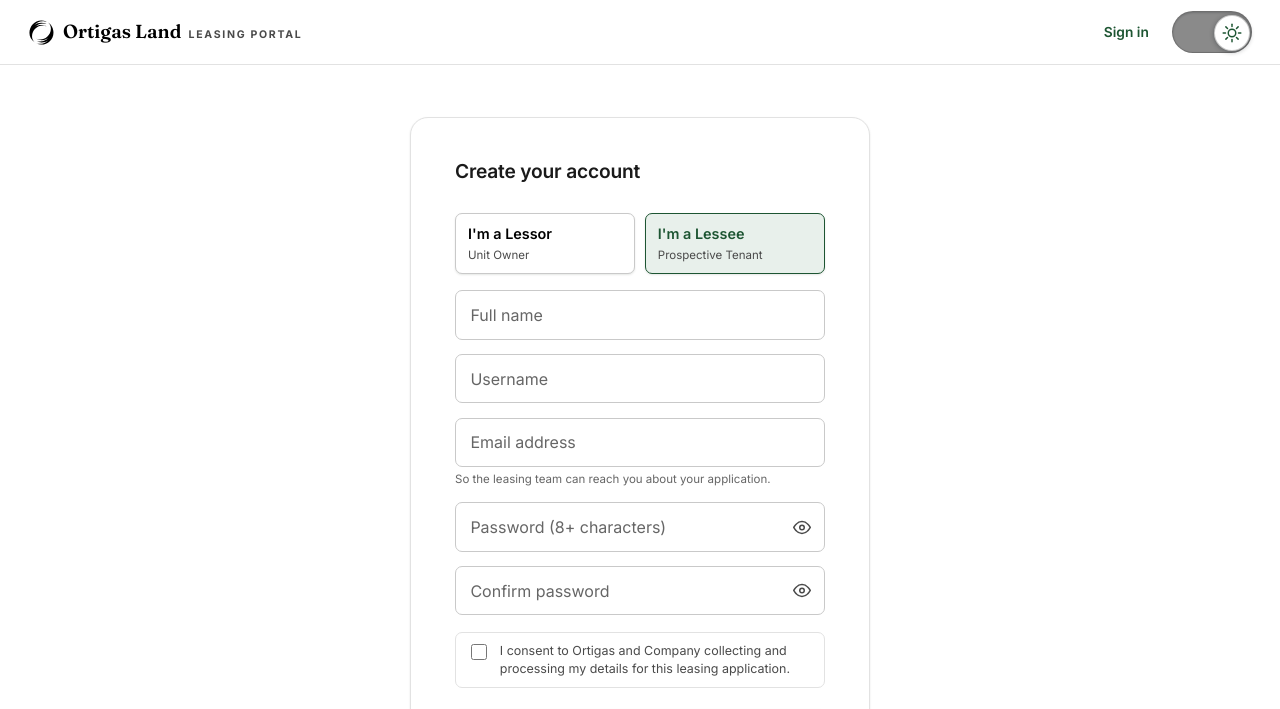
Scenario: SignupView › confirms the application is awaiting approval instead of redirecting
The width and height of the screenshot is (1280, 709).
In the field with id "name": (640, 315) [455, 290, 825, 340], type "Ana Reyes"
In the field with id "username": (640, 379) [455, 354, 825, 403], type "ana.reyes"
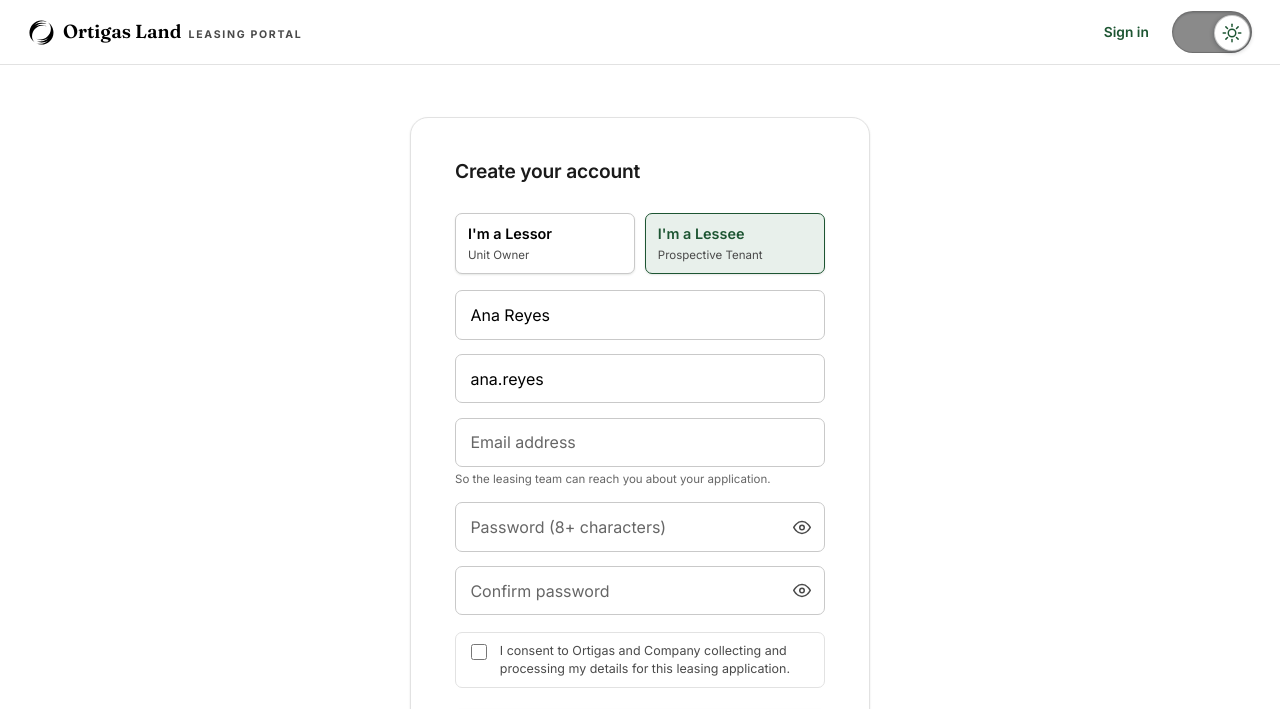
In the field with id "contactEmail": (640, 442) [455, 418, 825, 467], type "ana@example.com"
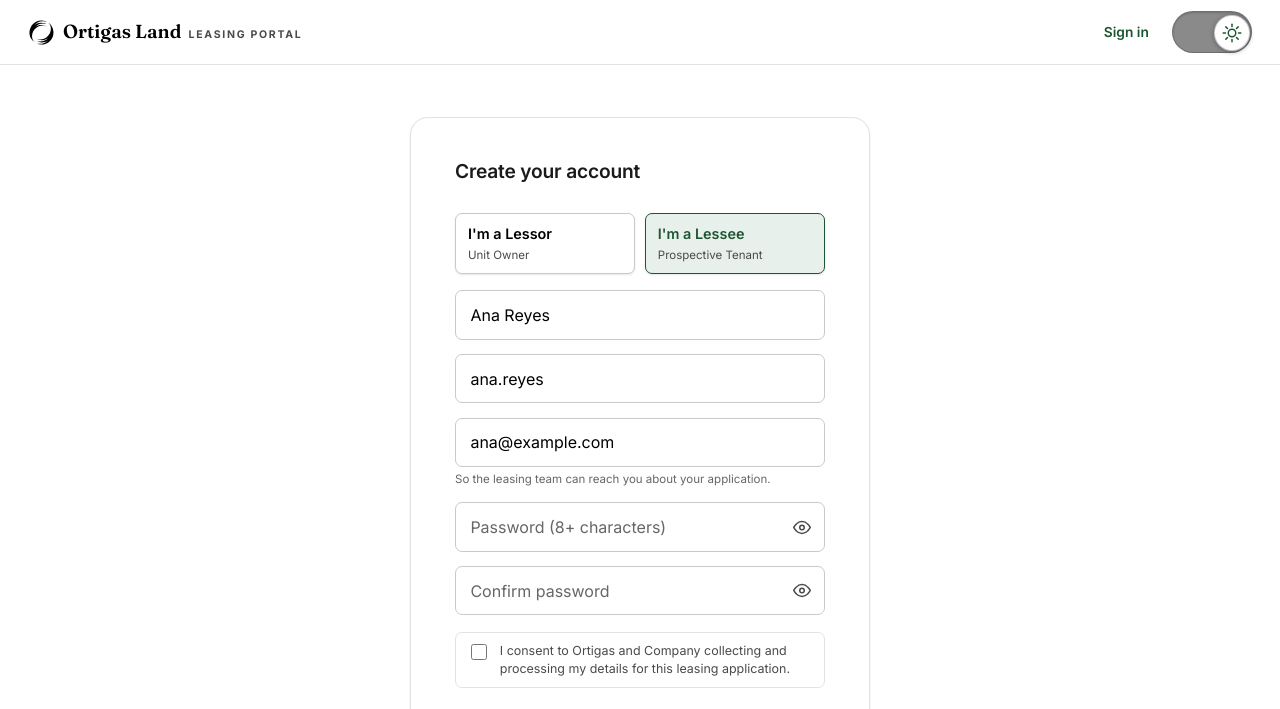
In the password field with placeholder "Password (8+ characters)": (640, 527) [455, 502, 825, 552], type "strong-pass-8"
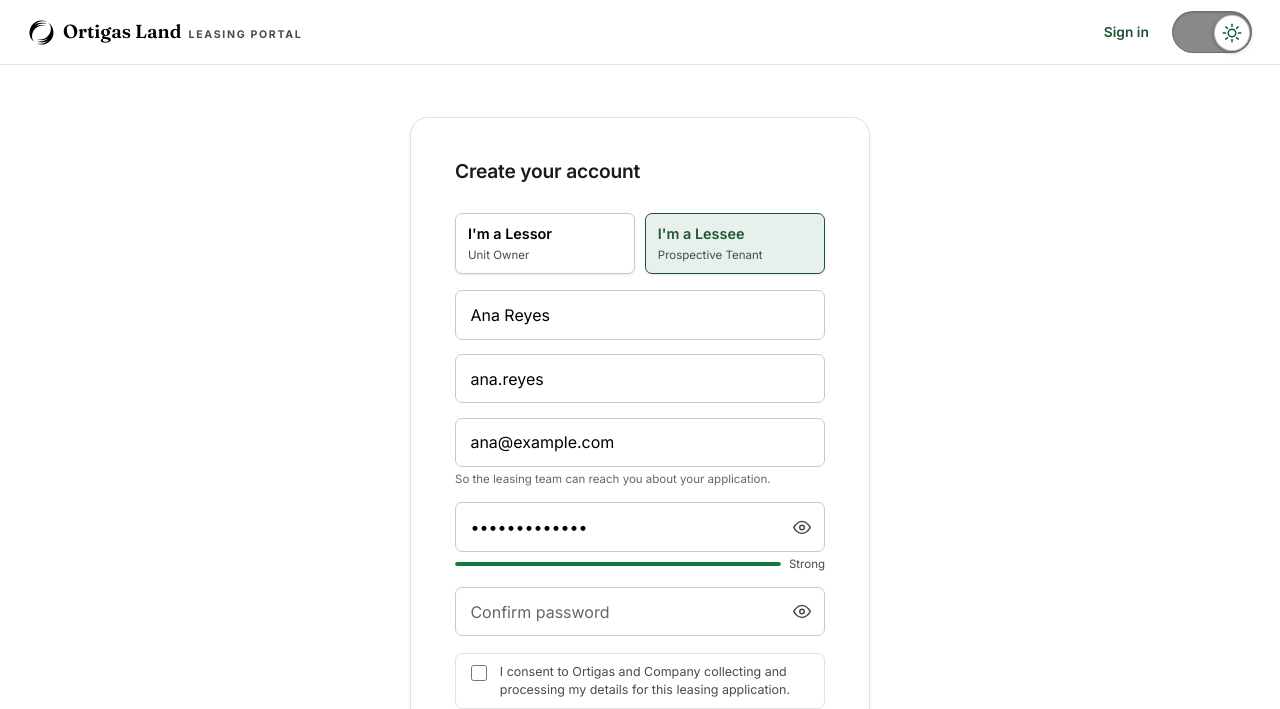
In the password field with id "confirm": (640, 612) [455, 587, 825, 636], type "strong-pass-8"
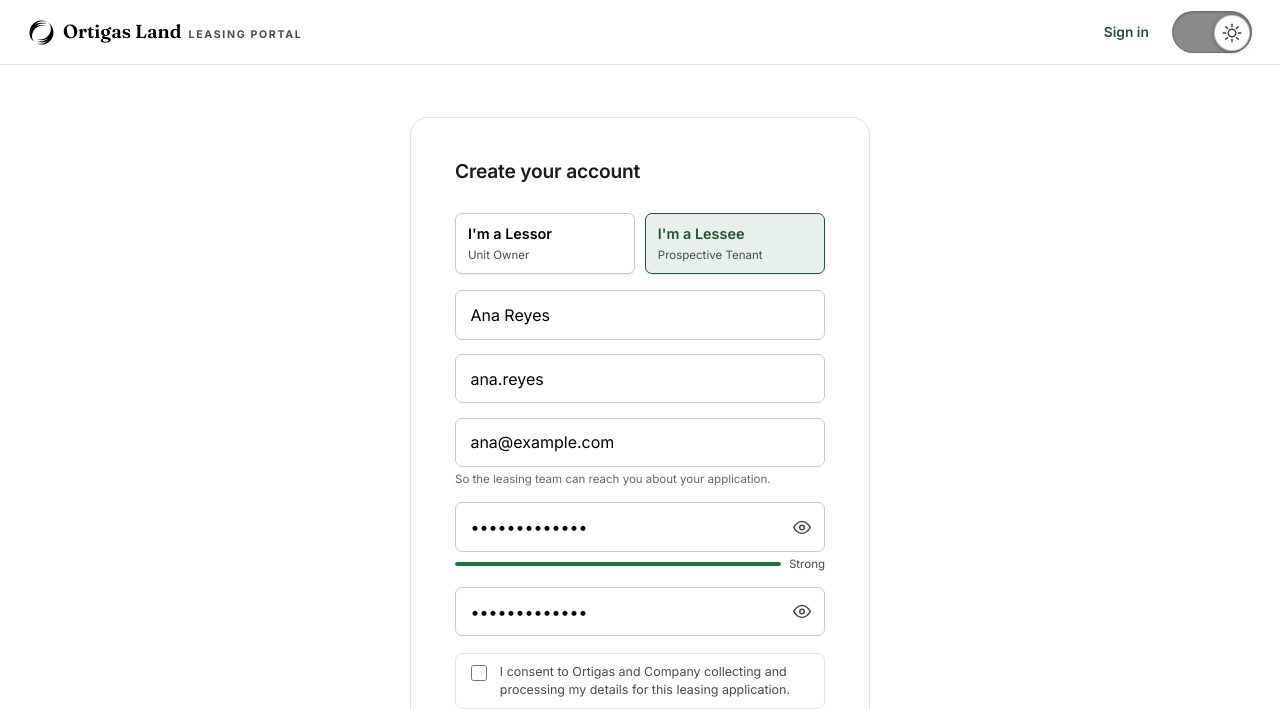
Click the checkbox with id "consent": (479, 673) [471, 665, 487, 681]
(page scrolled)
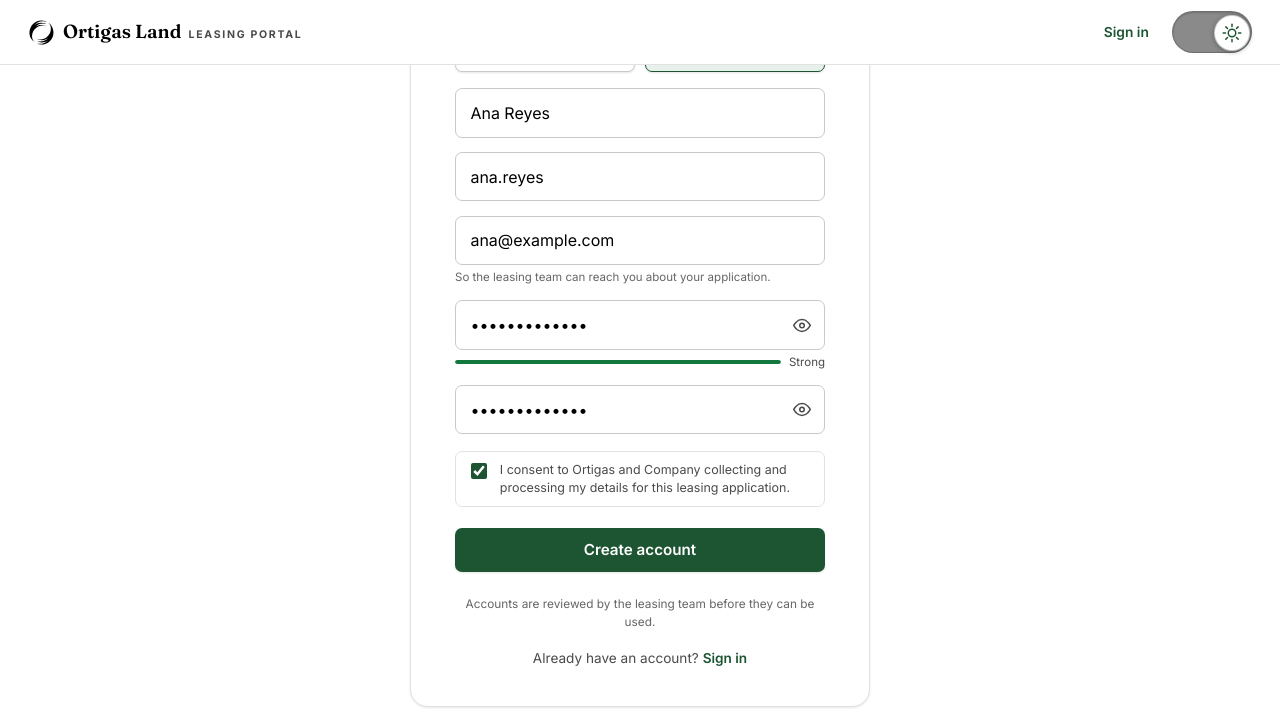
Submit the form, box [455, 528, 825, 629]
(page scrolled)
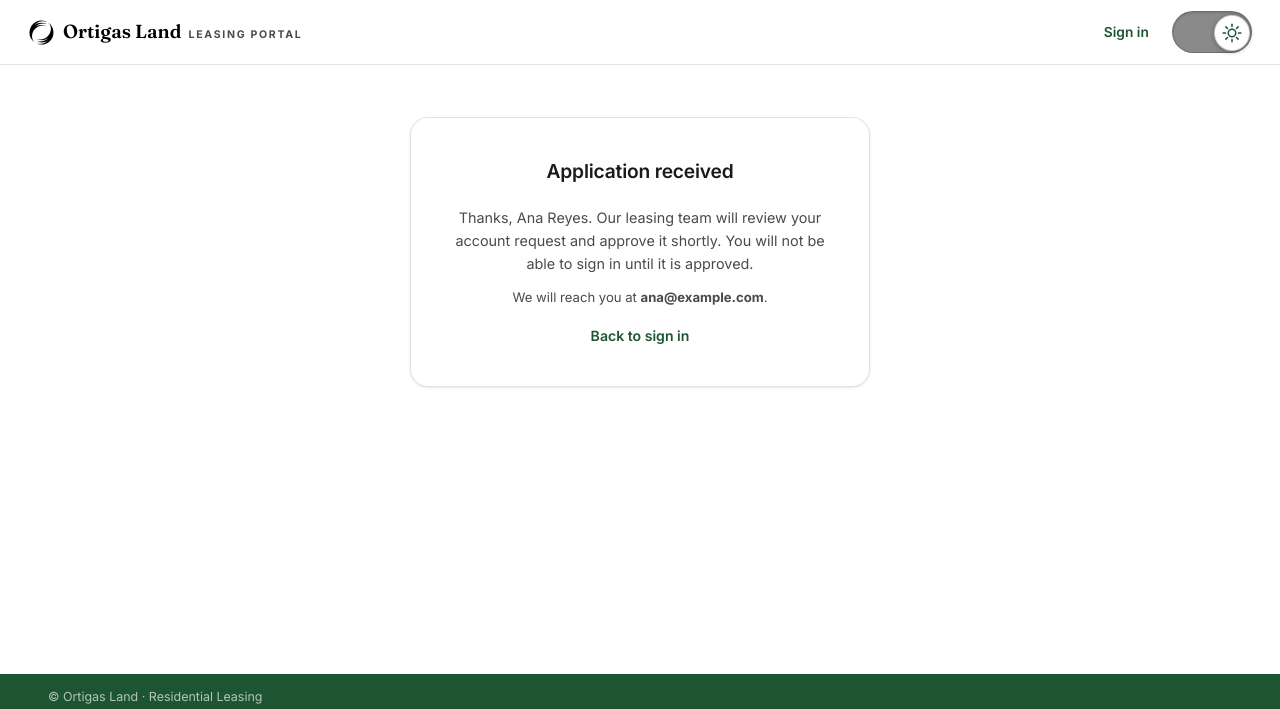
Check: the text "Application received" is shown, box [547, 159, 734, 183]
Check: the text "approve it shortly" is shown, box [455, 209, 825, 272]
